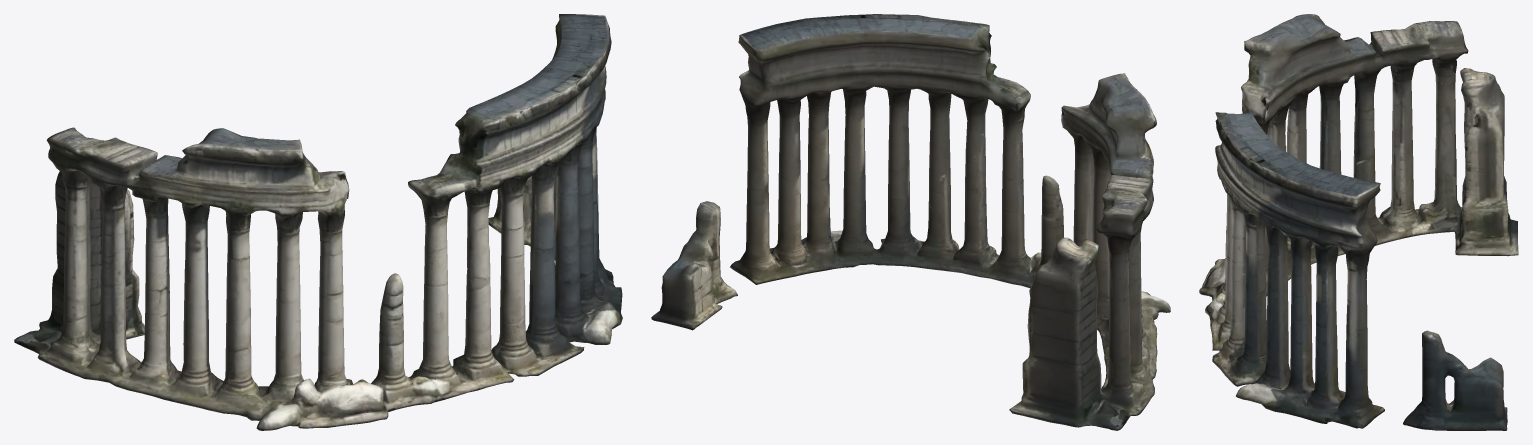
File: stone_ruins_with_sanctuary_and_columns.glb
3 views of the same model, side by side, from view 1: azimuth 30°, elevation 25°; view 2: azimuth 150°, elevation 25°; view 3: azimuth 270°, elevation 25° (orthographic). The views are drawn at different scales.
Parts seen in each view (by area): view 1: Object_4; view 2: Object_4; view 3: Object_4.
Boxes of the visible parts, x1=… form: Object_4: x1=14, y1=14, x2=622, y2=430; Object_4: x1=651, y1=14, x2=1170, y2=430; Object_4: x1=1199, y1=14, x2=1518, y2=430.
Bounding box in the file's own units: 2 × 0.9585 × 1.21.
1 material, 1 textured.
